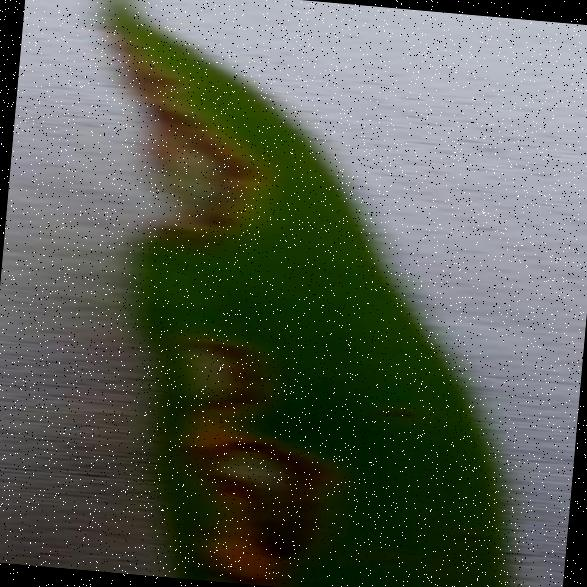Leaf_smut: (167, 427, 330, 561), (167, 290, 286, 430)
